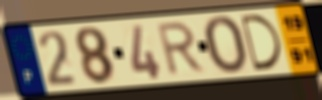2: (37, 29, 78, 89)
4: (129, 22, 163, 81)
8: (74, 24, 117, 86)
D: (238, 13, 285, 73)
O: (201, 14, 250, 77)
R: (155, 20, 208, 78)
